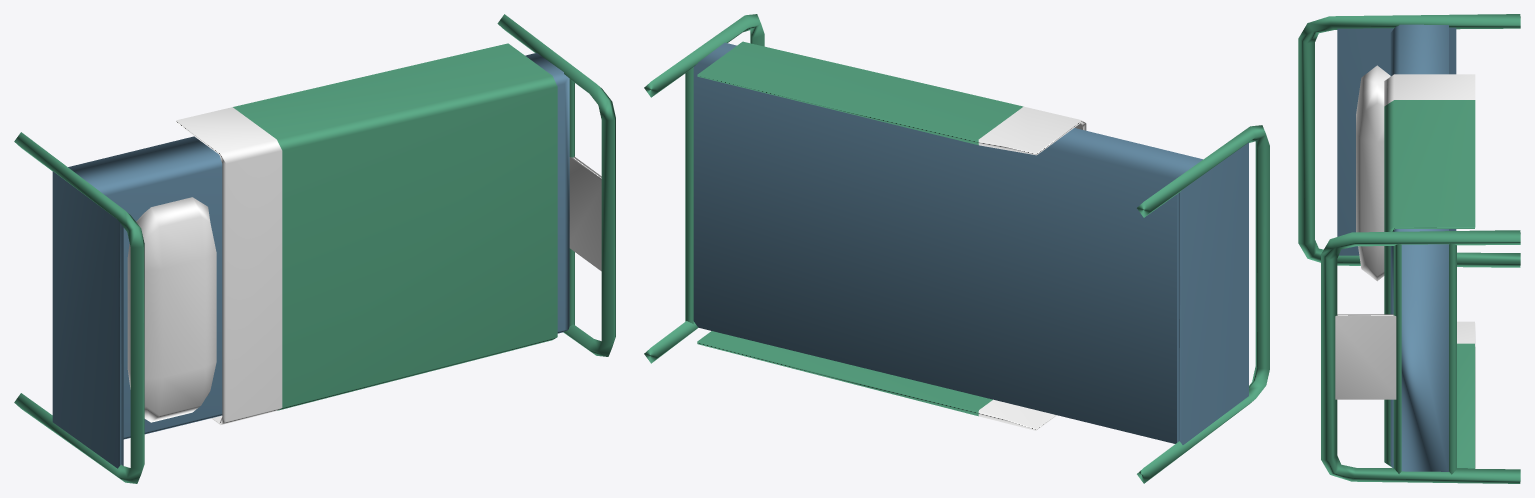
File: bed_2.dae
3 views of the same model, side by side, from view 1: azimuth 30°, elevation 25°; view 2: azimuth 150°, elevation 25°; view 3: azimuth 270°, elevation 25° (orthographic). The views are drawn at different scales.
Visible parts, largest first — view 1: coords_ME_ID57_MA_material_1, coords_ME_ID3_MA_material, coords_ME_ID11_MA_material_0, coords_ME_ID31_MA_material, coords_ME_ID19_MA_material_0, coords_ME_ID37_MA_material_1, coords_ME_ID45_MA_material_1, coords_ME_ID25_MA_material, coords_ME_ID51_MA_material_1; view 2: coords_ME_ID19_MA_material_0, coords_ME_ID57_MA_material_1, coords_ME_ID11_MA_material_0, coords_ME_ID37_MA_material_1, coords_ME_ID3_MA_material, coords_ME_ID45_MA_material_1, coords_ME_ID63_MA_material_1; view 3: coords_ME_ID57_MA_material_1, coords_ME_ID19_MA_material_0, coords_ME_ID45_MA_material_1, coords_ME_ID37_MA_material_1, coords_ME_ID11_MA_material_0, coords_ME_ID31_MA_material, coords_ME_ID25_MA_material, coords_ME_ID3_MA_material, coords_ME_ID63_MA_material_1, coords_ME_ID51_MA_material_1.
Boxes of the visible parts, box(x1,y1,x2,y2) form: coords_ME_ID57_MA_material_1: box(233, 43, 557, 410); coords_ME_ID3_MA_material: box(176, 107, 282, 425); coords_ME_ID11_MA_material_0: box(52, 171, 123, 468); coords_ME_ID31_MA_material: box(127, 197, 216, 422); coords_ME_ID19_MA_material_0: box(68, 53, 569, 439); coords_ME_ID37_MA_material_1: box(14, 132, 144, 483); coords_ME_ID45_MA_material_1: box(497, 14, 615, 356); coords_ME_ID25_MA_material: box(569, 156, 601, 271); coords_ME_ID51_MA_material_1: box(569, 79, 574, 325); coords_ME_ID19_MA_material_0: box(693, 42, 1202, 443); coords_ME_ID57_MA_material_1: box(697, 41, 1023, 416); coords_ME_ID11_MA_material_0: box(1177, 142, 1248, 444); coords_ME_ID37_MA_material_1: box(1137, 125, 1269, 483); coords_ME_ID3_MA_material: box(978, 106, 1086, 430); coords_ME_ID45_MA_material_1: box(644, 14, 764, 363); coords_ME_ID63_MA_material_1: box(685, 67, 693, 323); coords_ME_ID57_MA_material_1: box(1384, 100, 1475, 468); coords_ME_ID19_MA_material_0: box(1390, 24, 1448, 471); coords_ME_ID45_MA_material_1: box(1321, 230, 1520, 483); coords_ME_ID37_MA_material_1: box(1298, 14, 1520, 267); coords_ME_ID11_MA_material_0: box(1337, 27, 1456, 255); coords_ME_ID31_MA_material: box(1356, 65, 1390, 281); coords_ME_ID25_MA_material: box(1335, 314, 1396, 399); coords_ME_ID3_MA_material: box(1384, 74, 1475, 346); coords_ME_ID63_MA_material_1: box(1449, 243, 1456, 474); coords_ME_ID51_MA_material_1: box(1393, 244, 1401, 473).
Bounding box in the file's own units: 23.88 × 12.71 × 10.08.
